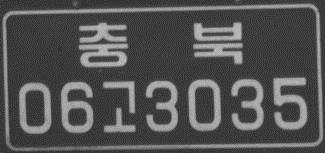0: (184, 79, 224, 134), (17, 81, 54, 138)
3: (229, 75, 265, 136), (146, 79, 180, 135)
5: (272, 73, 312, 131)
6: (59, 80, 94, 145)
고: (99, 76, 138, 135)
충북_D: (78, 16, 245, 70)
